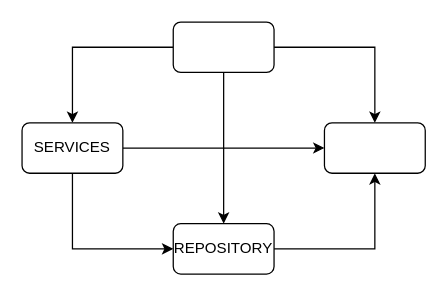
This 447x296 diagram has some shape labels left out. The shapes that lost their labels are listed below. From the top down, each one's box as (x1, y1, x2, y2) in pixels, then its label:
(172, 21, 274, 72): API
(323, 122, 425, 173): CORE
